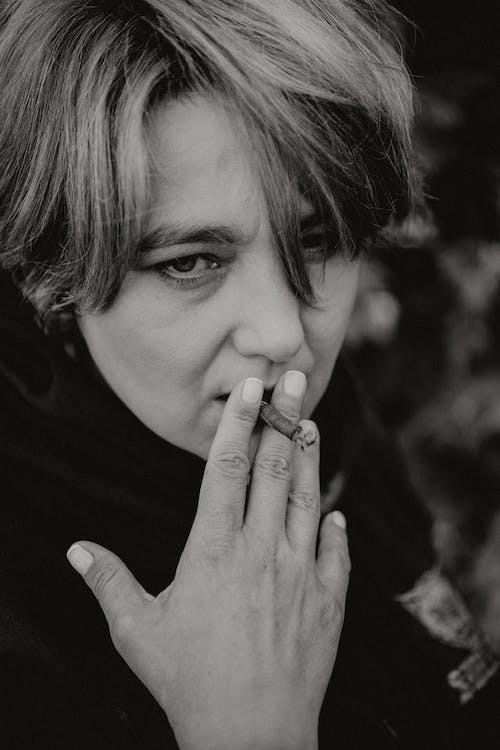cigarette: (255, 397, 319, 452)
